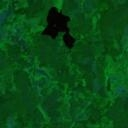alloviz: (41, 5, 76, 49)
